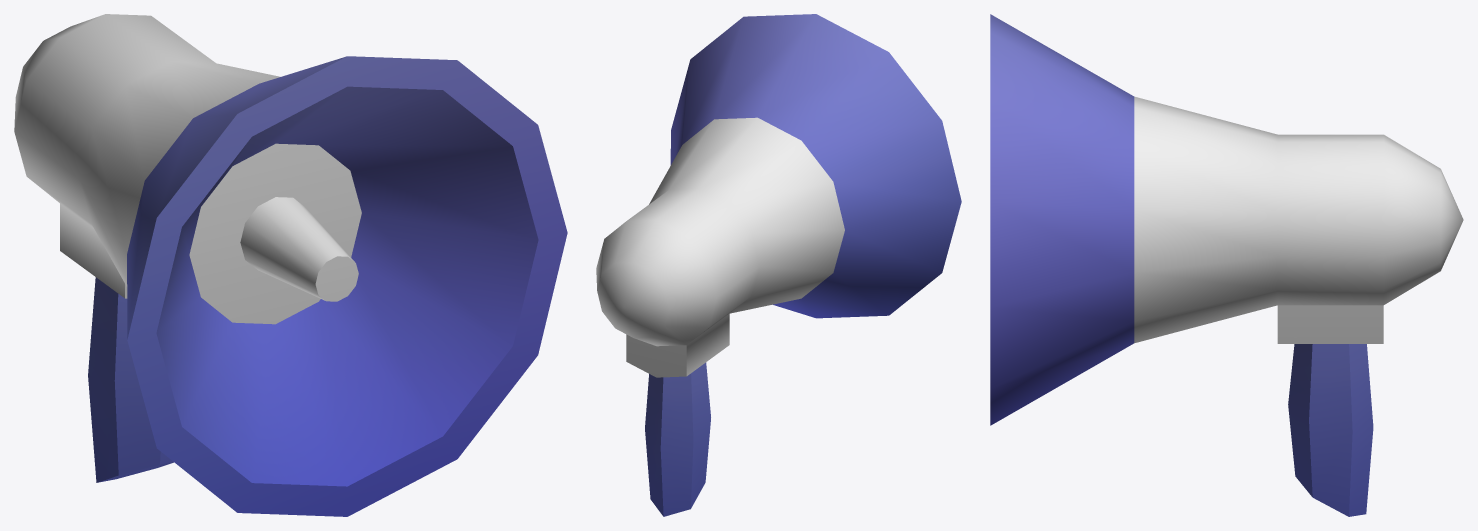
Rendered from Megaphone_D.fbx.
3 views of the same model, side by side, from view 1: azimuth 30°, elevation 25°; view 2: azimuth 150°, elevation 25°; view 3: azimuth 270°, elevation 25° (orthographic). The views are drawn at different scales.
Visible parts, largest first — view 1: Megaphone_D; view 2: Megaphone_D; view 3: Megaphone_D.
Boxes of the visible parts, box(x1,y1,x2,y2) form: Megaphone_D: box(14, 14, 567, 516); Megaphone_D: box(596, 14, 961, 516); Megaphone_D: box(990, 14, 1463, 516).
Size of the model in its own units: 40.66 by 52.25 by 46.55.
